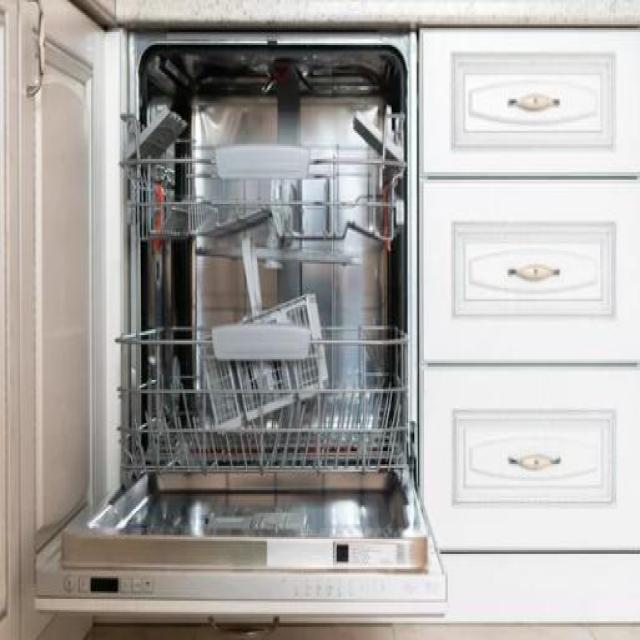dishwasher: (26, 10, 458, 632)
